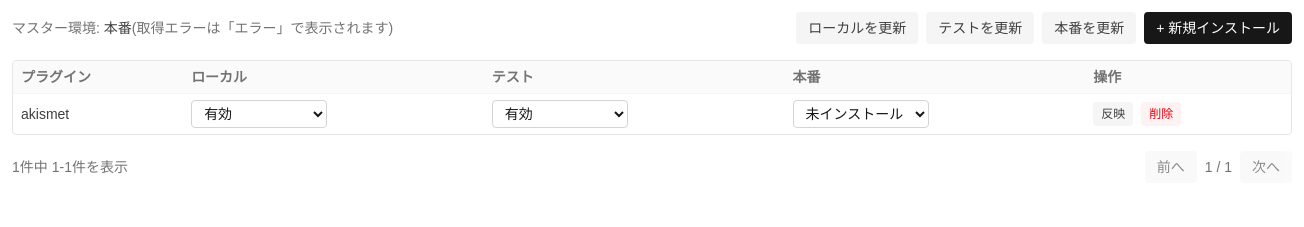
Scenario: PluginThemeComparisonTable › 変更を反映すると成功メッセージを表示し、一覧を再取得する
The image size is (1304, 227).
Select "有効" in the 3rd dropdown at (860, 114), box [792,100,928,128]
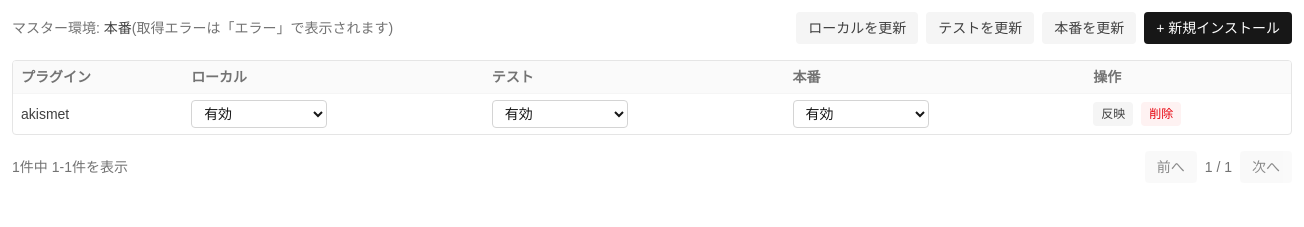
Click the button "反映" at (1113, 114), box [1093,102,1133,126]
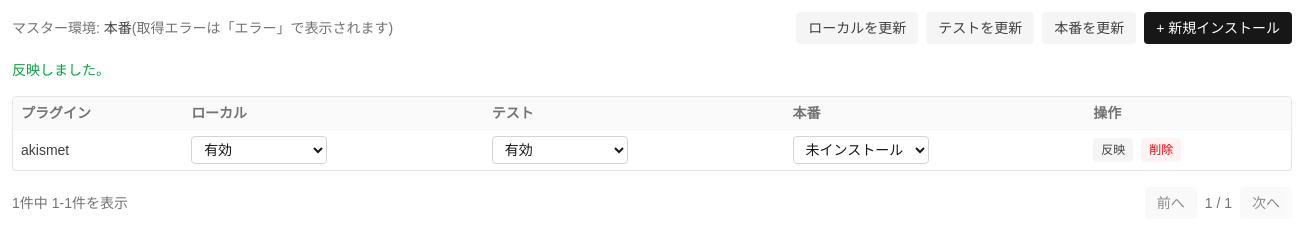
Check: the text "反映しました。" is shown, box [12,62,110,78]
